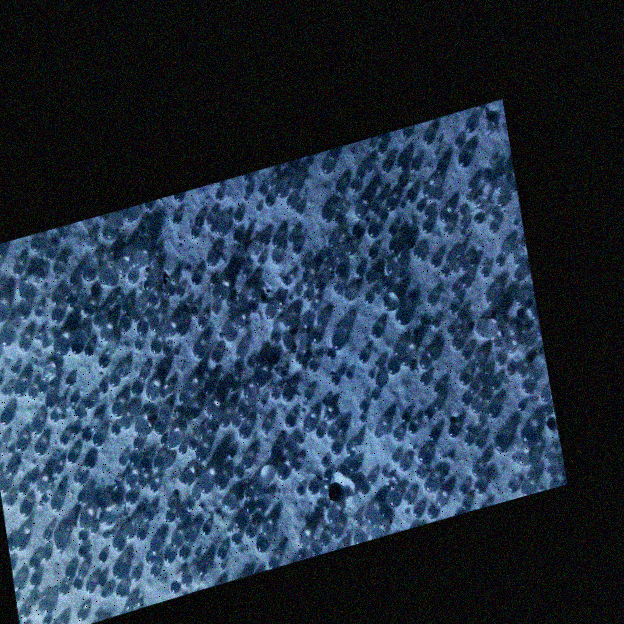GrassBeadSeg: (0, 157, 528, 585), (42, 263, 551, 619), (27, 156, 405, 569), (0, 288, 499, 582), (14, 256, 440, 594), (9, 128, 410, 483), (142, 180, 532, 522), (98, 212, 537, 510), (50, 275, 443, 606), (15, 202, 509, 452), (95, 132, 527, 412), (49, 163, 391, 513), (40, 240, 410, 562), (40, 176, 303, 623), (0, 291, 469, 541), (179, 256, 526, 587), (0, 297, 544, 508), (13, 196, 302, 591), (72, 210, 491, 482), (85, 138, 463, 439), (76, 217, 388, 579), (196, 204, 556, 477), (201, 211, 499, 534), (218, 259, 527, 570), (134, 270, 483, 545), (152, 195, 509, 461), (95, 272, 473, 517), (40, 236, 341, 542), (182, 165, 447, 511), (11, 182, 505, 367), (168, 198, 399, 589), (28, 269, 378, 522), (143, 287, 460, 565), (113, 263, 554, 461), (75, 386, 446, 621), (170, 219, 480, 492), (81, 154, 468, 372), (196, 278, 471, 575), (120, 285, 556, 472), (172, 142, 463, 422), (90, 120, 476, 329), (115, 310, 468, 532), (15, 291, 313, 552), (148, 221, 433, 487), (295, 259, 549, 557), (51, 400, 525, 558), (15, 226, 397, 417), (96, 215, 484, 403), (50, 293, 536, 443), (10, 315, 329, 540), (29, 250, 414, 436), (17, 331, 322, 560), (204, 251, 487, 495), (50, 309, 439, 485), (76, 315, 377, 542), (170, 213, 499, 418), (189, 273, 440, 539), (14, 224, 452, 375), (64, 227, 471, 386), (37, 421, 427, 585), (148, 284, 382, 554), (149, 225, 364, 511), (142, 200, 365, 467), (28, 431, 404, 588), (16, 344, 404, 494), (119, 213, 363, 447), (116, 300, 457, 467), (12, 382, 518, 494), (24, 468, 386, 623), (135, 253, 456, 427), (17, 321, 266, 543), (43, 248, 257, 504), (117, 227, 454, 386), (233, 318, 532, 496), (230, 160, 434, 419), (219, 189, 375, 524), (198, 326, 515, 486), (175, 285, 367, 544), (74, 211, 311, 419), (272, 247, 427, 560), (147, 341, 464, 493), (157, 259, 456, 420), (18, 306, 280, 487), (267, 159, 440, 431), (0, 304, 445, 405), (323, 234, 516, 464), (300, 319, 498, 543), (0, 414, 318, 551), (28, 234, 457, 335), (184, 357, 409, 545), (131, 293, 399, 448), (140, 277, 291, 548), (195, 203, 305, 570), (215, 288, 528, 414), (251, 382, 480, 553), (75, 305, 258, 504), (220, 376, 470, 518), (270, 309, 438, 519), (37, 305, 276, 451), (190, 261, 335, 501), (213, 190, 308, 548), (54, 295, 315, 424), (66, 352, 369, 463), (132, 175, 255, 436), (70, 343, 353, 455), (0, 332, 167, 517), (14, 391, 302, 490), (107, 325, 289, 480), (301, 205, 384, 540), (97, 316, 207, 563), (33, 309, 215, 455), (28, 439, 484, 496), (270, 251, 513, 355), (88, 385, 225, 567), (303, 161, 393, 433), (7, 462, 272, 552), (357, 153, 470, 364), (242, 283, 342, 513), (120, 340, 236, 538), (132, 340, 536, 395), (161, 283, 462, 356), (127, 215, 216, 459), (159, 268, 248, 510), (91, 425, 251, 559), (317, 356, 432, 541), (363, 267, 449, 512), (11, 211, 328, 277), (379, 383, 534, 517), (307, 333, 438, 491), (236, 294, 437, 389), (248, 296, 428, 385), (101, 449, 279, 539), (97, 253, 279, 340), (188, 203, 379, 285), (129, 164, 294, 258), (187, 439, 414, 505), (322, 123, 471, 222), (344, 202, 423, 381), (3, 325, 210, 391), (367, 325, 456, 478), (73, 471, 446, 505), (110, 486, 304, 551), (151, 394, 314, 471), (256, 232, 525, 278), (94, 258, 131, 589), (96, 382, 194, 503), (30, 243, 324, 283), (127, 453, 269, 535), (286, 233, 525, 281), (52, 213, 130, 356), (100, 213, 482, 240), (162, 502, 328, 563), (239, 455, 423, 509), (335, 265, 474, 336), (243, 139, 383, 207), (150, 318, 266, 400), (294, 393, 498, 438), (6, 348, 92, 454), (172, 304, 344, 356), (418, 337, 482, 470), (256, 360, 343, 455), (138, 340, 204, 462), (239, 462, 354, 531), (313, 281, 367, 423), (355, 163, 433, 261), (3, 325, 109, 396), (175, 298, 282, 367), (250, 250, 343, 329), (109, 343, 206, 418), (25, 474, 135, 540), (3, 466, 51, 615), (384, 127, 493, 191), (204, 447, 269, 553), (64, 282, 345, 306), (337, 362, 397, 472), (437, 211, 471, 405), (56, 483, 113, 598), (215, 350, 295, 428), (245, 275, 288, 416), (331, 260, 399, 349), (0, 404, 68, 489), (416, 355, 468, 465), (469, 244, 507, 384), (230, 389, 336, 439), (465, 124, 502, 266), (75, 280, 380, 297), (320, 371, 383, 452), (333, 181, 401, 254), (107, 377, 294, 403), (400, 182, 503, 229), (127, 270, 207, 329), (366, 222, 497, 258), (318, 491, 401, 547), (213, 365, 251, 480), (428, 302, 459, 441), (64, 549, 199, 580), (90, 236, 141, 313), (234, 519, 341, 555), (21, 232, 65, 318), (34, 410, 78, 494), (363, 429, 400, 526), (112, 225, 153, 302), (331, 437, 362, 530), (52, 321, 162, 347), (314, 487, 408, 515), (84, 457, 135, 505), (268, 357, 292, 453), (242, 171, 268, 257), (108, 491, 133, 579), (166, 393, 192, 477), (131, 529, 175, 578), (226, 297, 291, 330), (269, 353, 304, 413), (84, 456, 112, 525), (314, 411, 355, 458), (358, 364, 398, 411), (52, 406, 75, 486), (489, 374, 550, 403), (223, 474, 314, 493), (33, 309, 56, 375), (493, 340, 536, 375), (202, 383, 236, 423), (112, 298, 166, 323), (206, 403, 246, 435), (129, 226, 156, 269), (84, 580, 124, 598), (153, 421, 176, 448), (44, 378, 58, 421), (182, 474, 212, 493), (41, 362, 53, 409), (66, 566, 89, 590), (59, 236, 96, 248), (96, 267, 117, 287), (318, 470, 331, 497), (94, 498, 105, 523), (124, 207, 139, 224), (30, 238, 44, 253), (213, 476, 227, 490), (343, 242, 357, 255), (352, 202, 363, 218), (81, 399, 92, 408), (256, 186, 266, 195), (105, 297, 112, 305), (232, 365, 239, 371)
